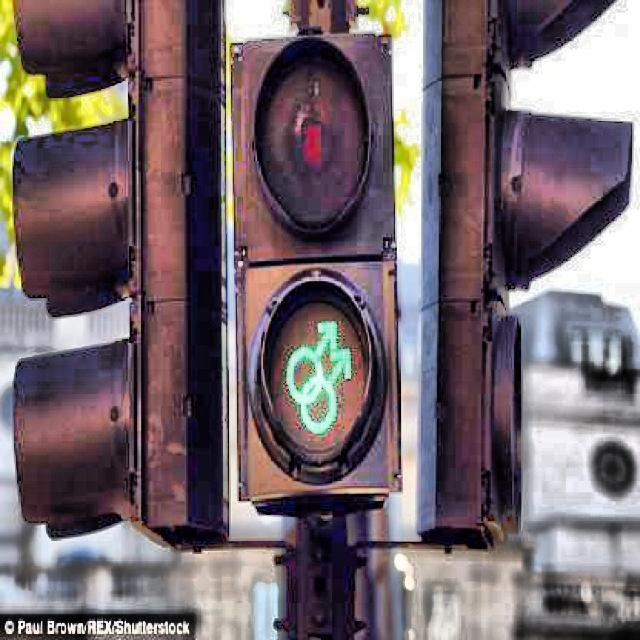semaforo pedestre: (212, 19, 478, 546)
